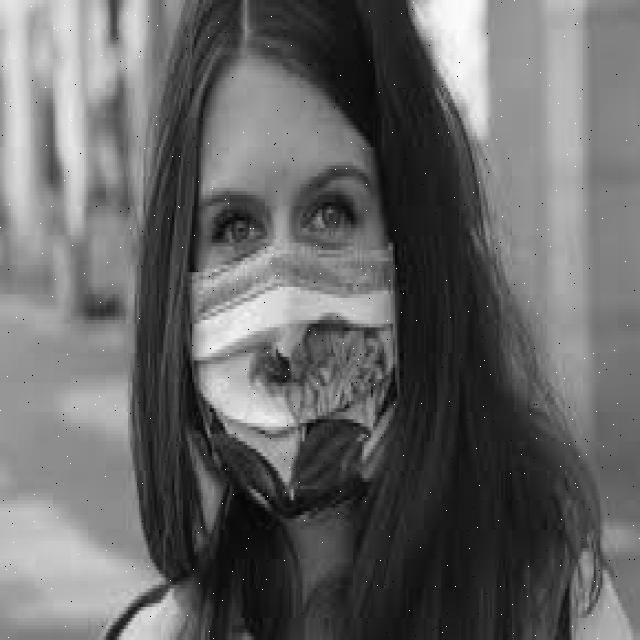fake: (181, 238, 400, 529)
real: (192, 53, 387, 529)
